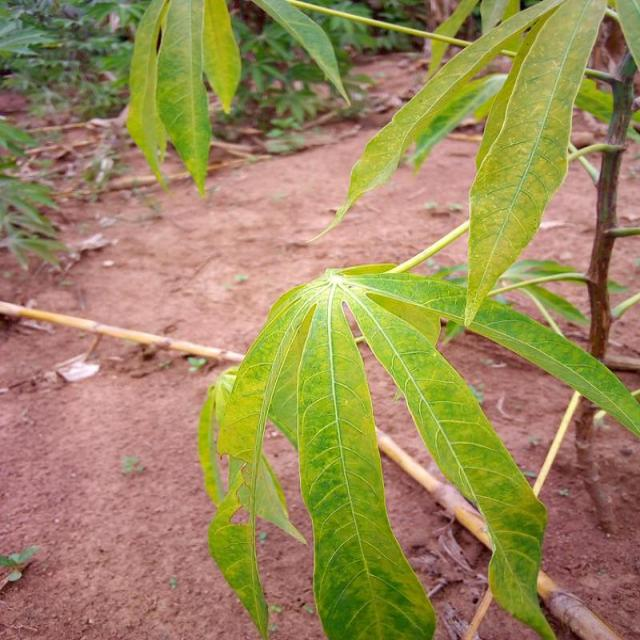cassava leaf: (334, 275, 556, 638), (294, 279, 437, 638), (462, 0, 608, 329)
